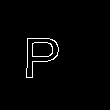P_N: (30, 29, 69, 80)
